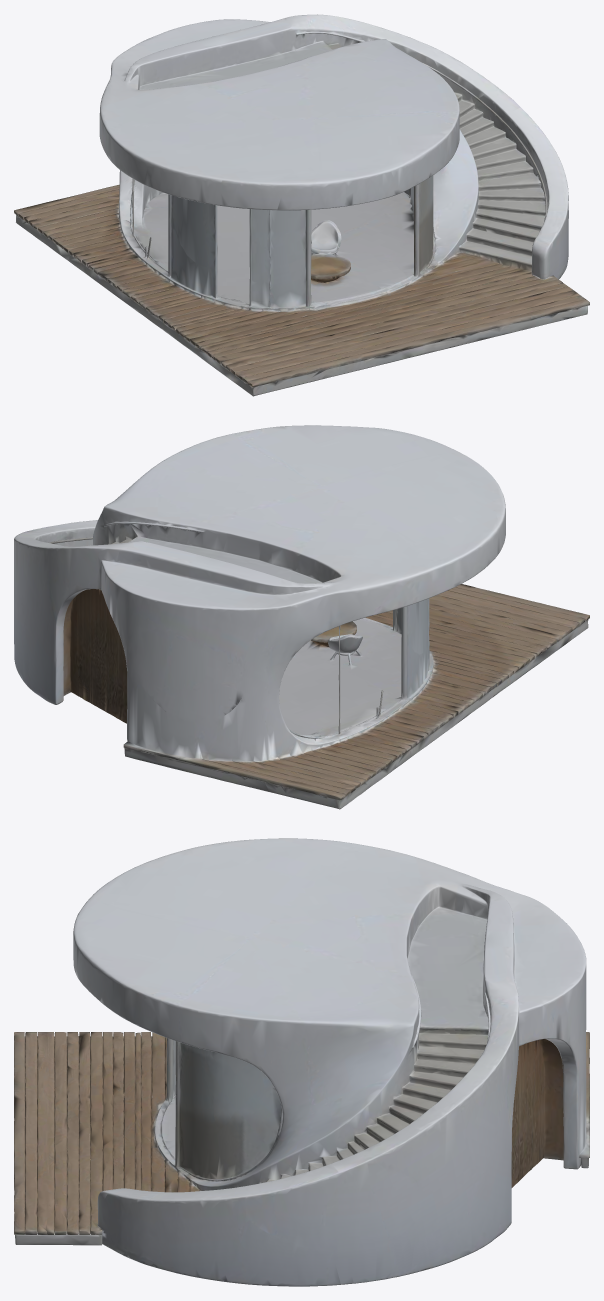
The model's file is mod_house.glb.
3 renders of one model, top to bottom at view 1: azimuth 30°, elevation 25°; view 2: azimuth 150°, elevation 25°; view 3: azimuth 270°, elevation 25°, orthographic. The views are drawn at different scales.
Visible parts, largest first — view 1: tripo_node_bab901df-9721-4184-8914-8c5ee840af4a; view 2: tripo_node_bab901df-9721-4184-8914-8c5ee840af4a; view 3: tripo_node_bab901df-9721-4184-8914-8c5ee840af4a.
Boxes of the visible parts, x1=… form: tripo_node_bab901df-9721-4184-8914-8c5ee840af4a: x1=14, y1=14, x2=589, y2=396; tripo_node_bab901df-9721-4184-8914-8c5ee840af4a: x1=14, y1=425, x2=589, y2=809; tripo_node_bab901df-9721-4184-8914-8c5ee840af4a: x1=14, y1=838, x2=589, y2=1286.
Size of the model in its own units: 0.98 by 0.38 by 0.9666.
1 material, 1 textured.
